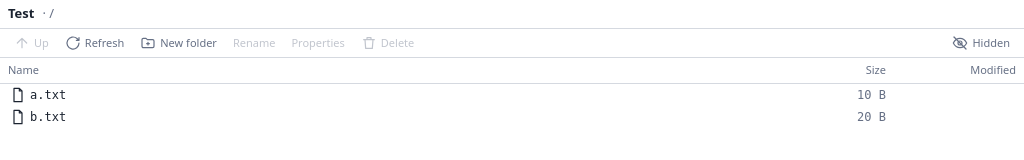
Test: PaneView Properties button › is disabled unless exactly one entry is selected
The image size is (1024, 160).
Expected: the button titled "Properties" is disabled, [285,32,351,53]
Note: One selected → enabled.
Click the text "a.txt": point(38, 94) [10,86,66,102]
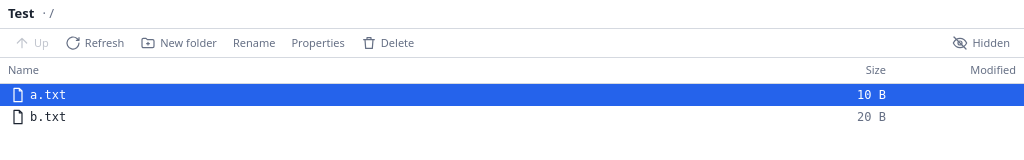
Result: the button titled "Properties" is enabled at [285,32,351,53]
Note: Two selected → disabled.
Click the text "b.txt": point(38, 116) [10,108,66,124]
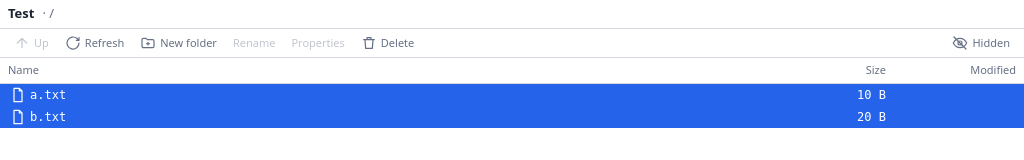
Result: the button titled "Properties" is disabled at [285,32,351,53]
